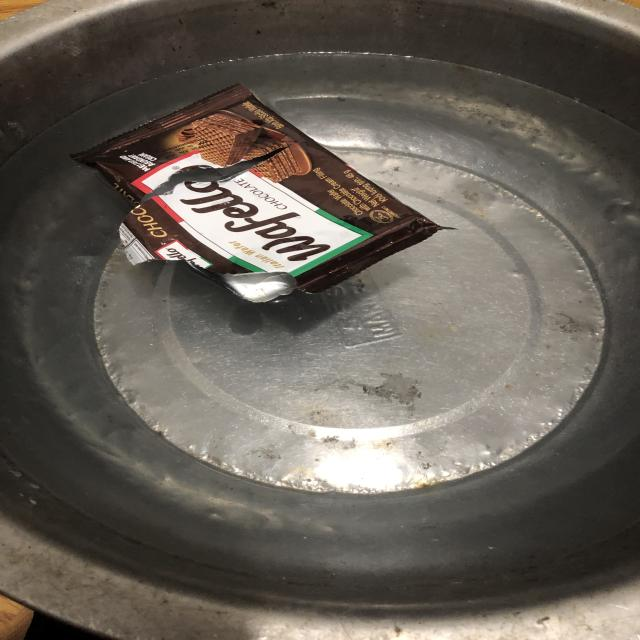Plastic Wrapper: (71, 84, 437, 303)
